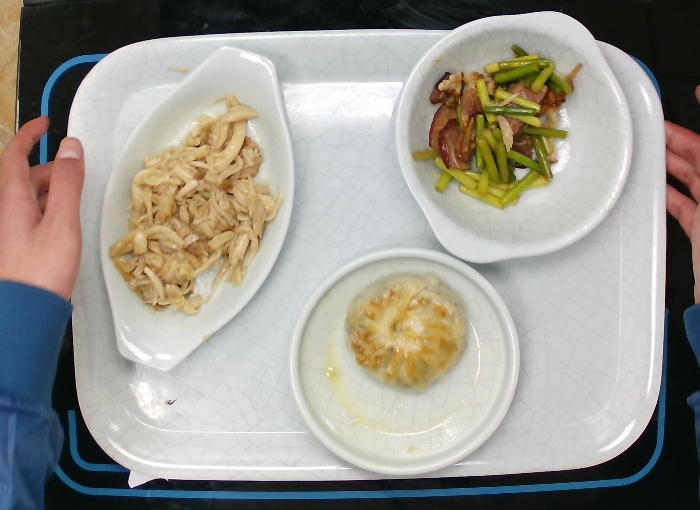JYsf-Shuang_Er_Wan: (387, 8, 638, 269)
JYsf-Xiao_Yuan_Pan: (285, 244, 522, 479)
JYsf-Yu_Pan: (93, 41, 298, 374)
